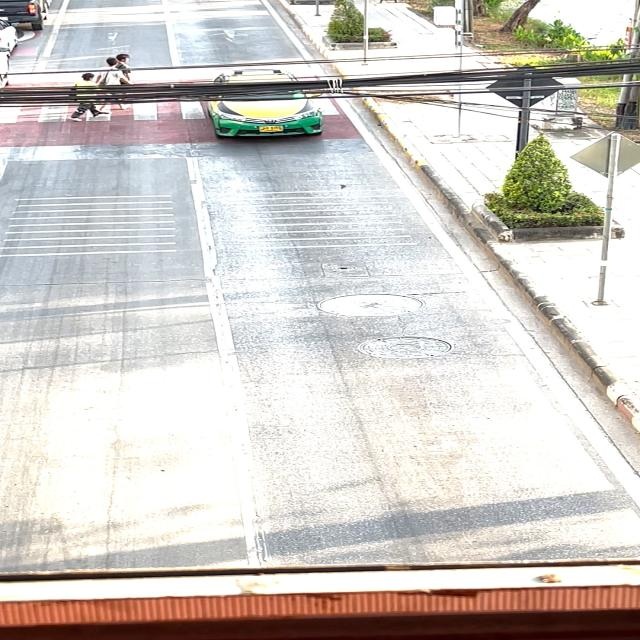car: (194, 81, 338, 149)
